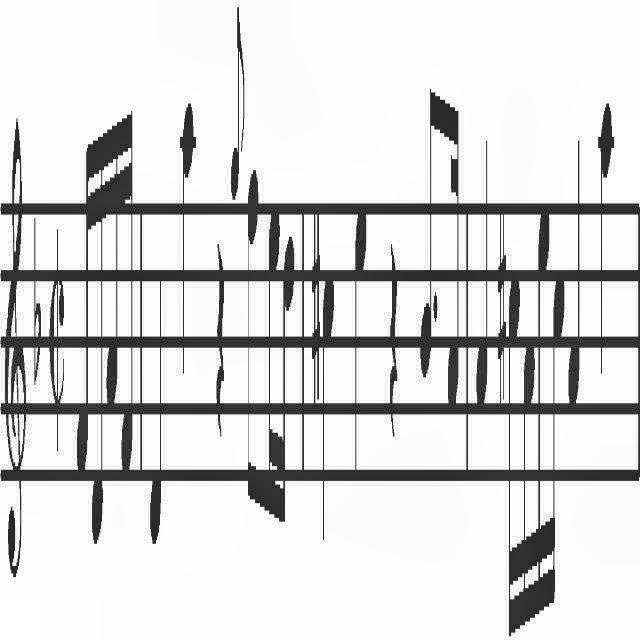Bass-clef: (0, 90, 28, 622)
Bemol: (30, 195, 42, 399)
Diez: (310, 179, 322, 407), (497, 187, 507, 406)
Eighth-note: (418, 55, 434, 395), (246, 160, 258, 552)
Quarter-note: (352, 189, 372, 506), (597, 78, 615, 406), (177, 90, 197, 370), (472, 136, 490, 424), (148, 258, 164, 554), (566, 128, 582, 416), (321, 233, 335, 542)
Quarter-rest: (388, 216, 402, 444), (216, 198, 226, 440)
Sixteenth-note: (534, 185, 550, 620), (72, 120, 90, 490), (120, 100, 136, 487), (444, 86, 461, 434), (92, 122, 105, 564), (266, 179, 282, 527), (507, 268, 521, 640), (551, 260, 565, 612), (105, 76, 118, 436), (281, 202, 295, 534), (522, 315, 536, 640)
